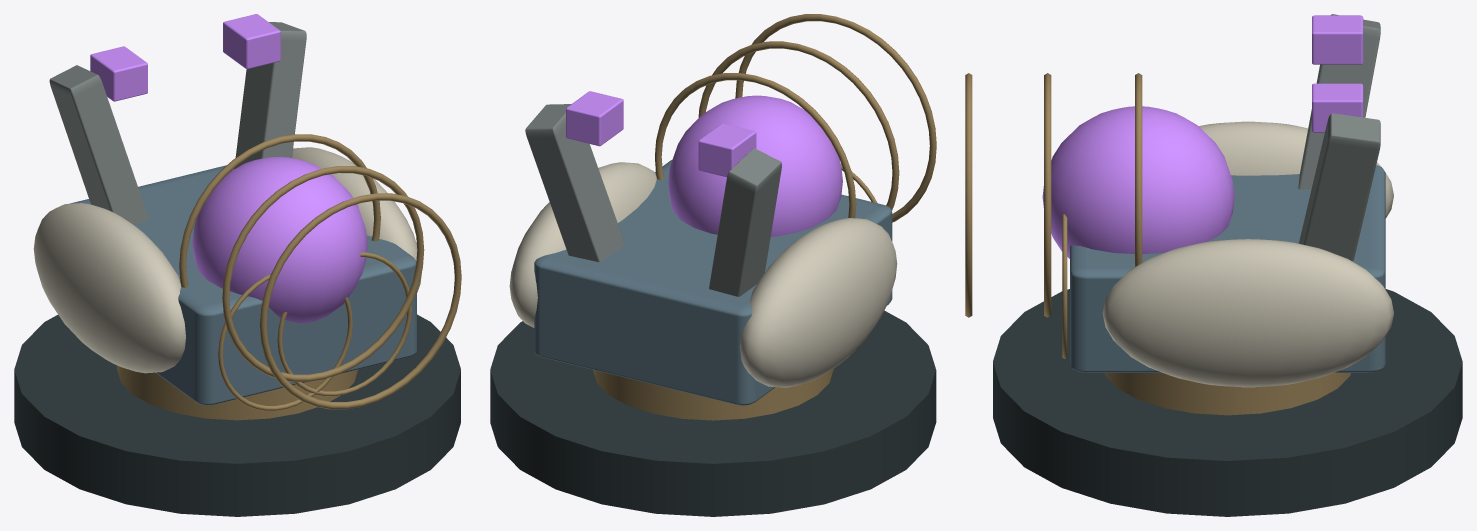
File: warden-machine-seeker-battery-v1.glb
The picture shows the model from 3 angles, left to right: view 1: azimuth 30°, elevation 25°; view 2: azimuth 150°, elevation 25°; view 3: azimuth 270°, elevation 25°; orthographic projection. The views are drawn at different scales.
Parts seen in each view (by area): view 1: Dark metal / Cylinder, Hull paint / Plate, Trim / Housing (×2), Optics / Housing, Brass / Ring (×5), Steel / Plate (×2), Optics / Plate (×2), Brass / Cylinder; view 2: Dark metal / Cylinder, Hull paint / Plate, Trim / Housing (×2), Steel / Plate (×2), Optics / Housing, Brass / Ring (×3), Brass / Cylinder, Optics / Plate (×2); view 3: Dark metal / Cylinder, Trim / Housing (×2), Optics / Housing, Hull paint / Plate, Steel / Plate (×2), Brass / Ring (×4), Brass / Cylinder, Optics / Plate (×2).
Boxes of the visible parts, x1=… form: Dark metal / Cylinder: x1=14, y1=314, x2=460, y2=516; Hull paint / Plate: x1=69, y1=165, x2=416, y2=405; Trim / Housing (×2): x1=33, y1=147, x2=421, y2=373; Optics / Housing: x1=192, y1=157, x2=367, y2=323; Brass / Ring (×5): x1=179, y1=134, x2=461, y2=410; Steel / Plate (×2): x1=49, y1=22, x2=306, y2=224; Optics / Plate (×2): x1=90, y1=14, x2=280, y2=101; Brass / Cylinder: x1=117, y1=365, x2=358, y2=420; Dark metal / Cylinder: x1=490, y1=310, x2=936, y2=516; Hull paint / Plate: x1=534, y1=160, x2=892, y2=405; Trim / Housing (×2): x1=509, y1=162, x2=897, y2=387; Steel / Plate (×2): x1=525, y1=104, x2=781, y2=296; Optics / Housing: x1=668, y1=95, x2=842, y2=236; Brass / Ring (×3): x1=655, y1=14, x2=936, y2=222; Brass / Cylinder: x1=593, y1=369, x2=833, y2=420; Optics / Plate (×2): x1=566, y1=91, x2=756, y2=177; Dark metal / Cylinder: x1=993, y1=289, x2=1462, y2=516; Trim / Housing (×2): x1=1102, y1=121, x2=1393, y2=387; Optics / Housing: x1=1042, y1=106, x2=1234, y2=258; Hull paint / Plate: x1=1070, y1=165, x2=1385, y2=372; Steel / Plate (×2): x1=1298, y1=14, x2=1380, y2=261; Brass / Ring (×4): x1=965, y1=73, x2=1142, y2=358; Brass / Cylinder: x1=1104, y1=373, x2=1350, y2=415; Optics / Plate (×2): x1=1312, y1=15, x2=1363, y2=132.
Size of the model in its own units: 0.2158 by 0.1823 by 0.2284.
